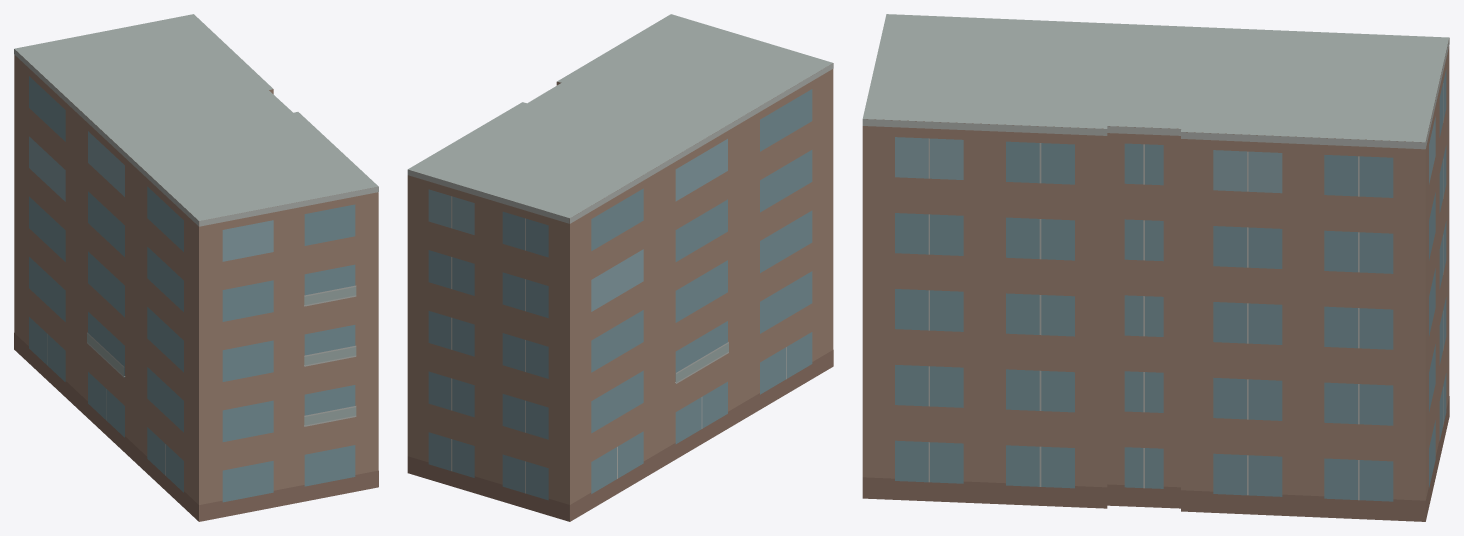
The model's file is survey-upis-32636250.glb.
3 renders of one model, left to right at view 1: azimuth 30°, elevation 25°; view 2: azimuth 150°, elevation 25°; view 3: azimuth 270°, elevation 25°, orthographic. The views are drawn at different scales.
Visible parts, largest first — view 1: survey-upis-32636250.tmp; view 2: survey-upis-32636250.tmp; view 3: survey-upis-32636250.tmp.
Boxes of the visible parts, left/top/right/bottom form: survey-upis-32636250.tmp: left=14, top=14, right=378, bottom=521; survey-upis-32636250.tmp: left=407, top=14, right=833, bottom=521; survey-upis-32636250.tmp: left=862, top=14, right=1449, bottom=521.
Size of the model in its own units: 9.54 by 13.15 by 18.43.
